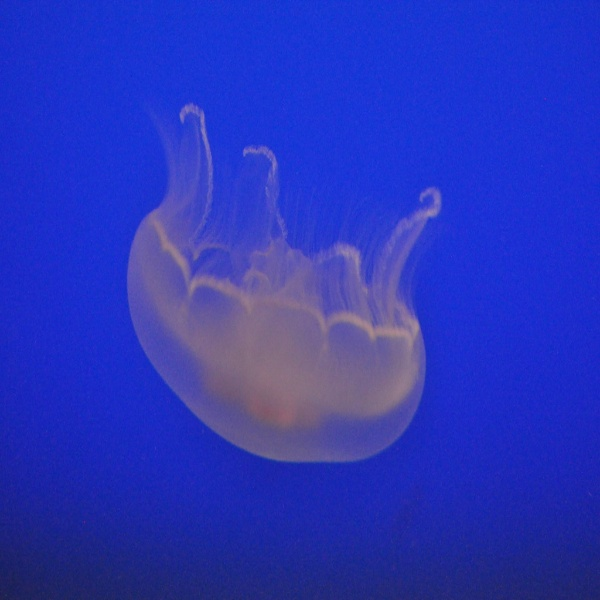Jellyfish: (133, 114, 438, 449)
